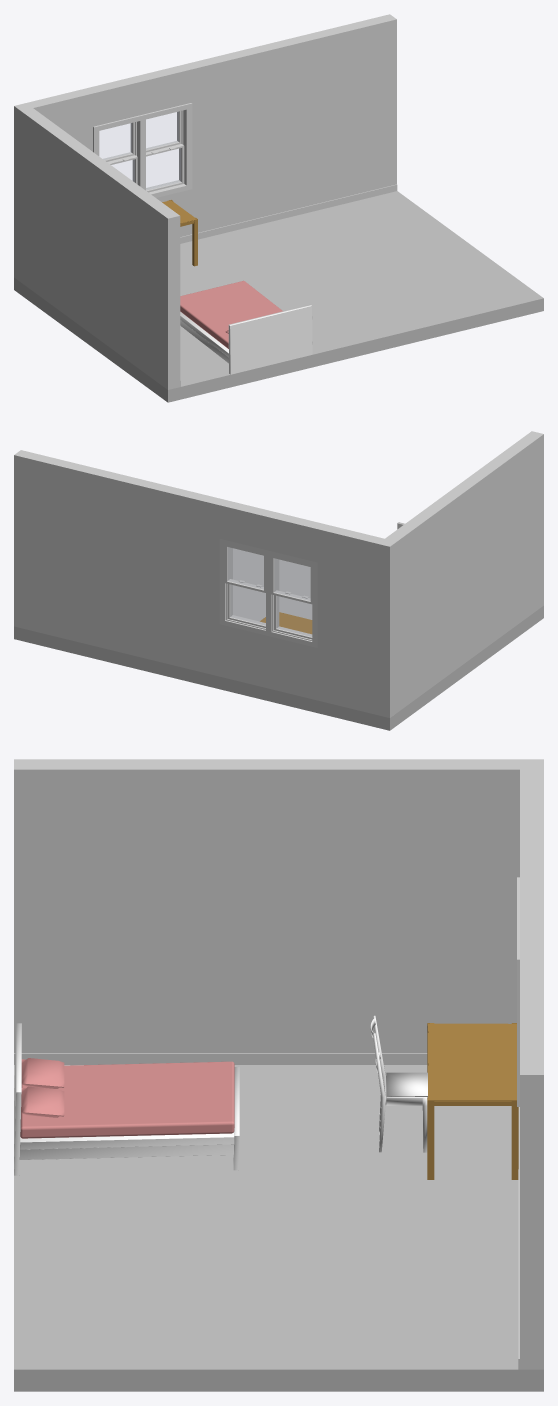
File: L14_W20_furniture2_daylight1.glb
3 views of the same model, one above another, from view 1: azimuth 30°, elevation 25°; view 2: azimuth 150°, elevation 25°; view 3: azimuth 270°, elevation 25° (orthographic). The views are drawn at different scales.
Size of the model in its own units: 248 by 116 by 176.
